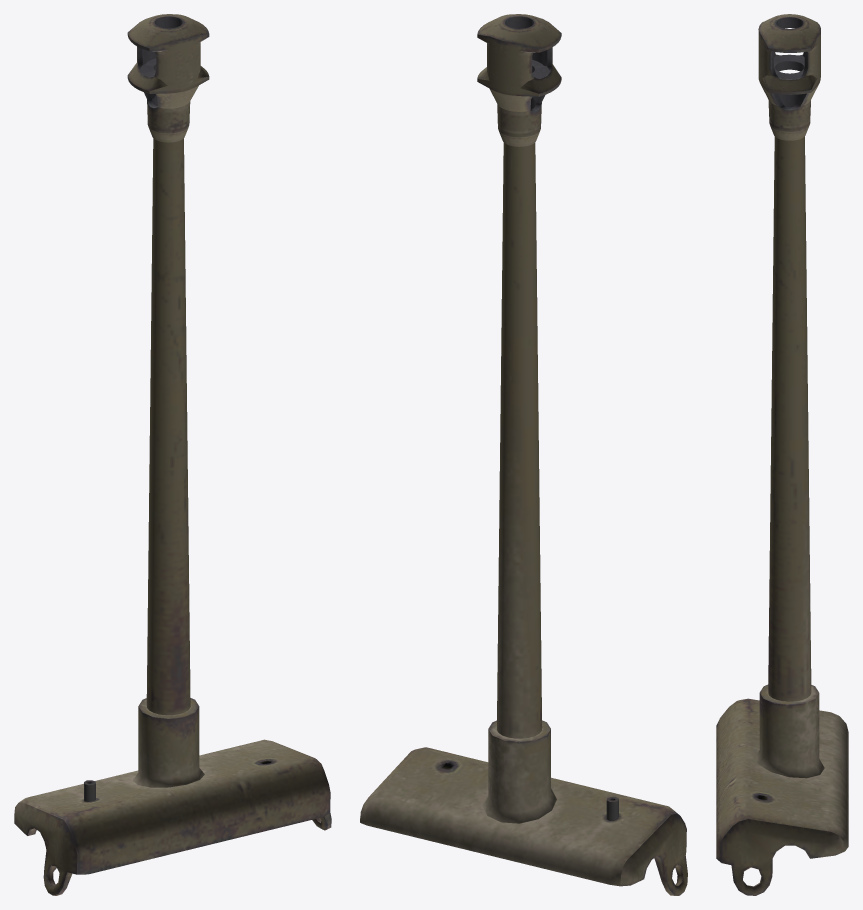
The model's file is Gun_04.glb.
3 renders of one model, left to right at view 1: azimuth 30°, elevation 25°; view 2: azimuth 150°, elevation 25°; view 3: azimuth 270°, elevation 25°, orthographic. The views are drawn at different scales.
Visible parts, largest first — view 1: set_0_group_0; view 2: set_0_group_0; view 3: set_0_group_0.
Part boxes in pixels (box(x1,y1,x2,y2)): set_0_group_0: box(14, 14, 331, 895); set_0_group_0: box(360, 14, 687, 895); set_0_group_0: box(716, 14, 848, 895).
Size of the model in its own units: 1.23 by 3.48 by 0.5169.
1 material, 1 textured.
